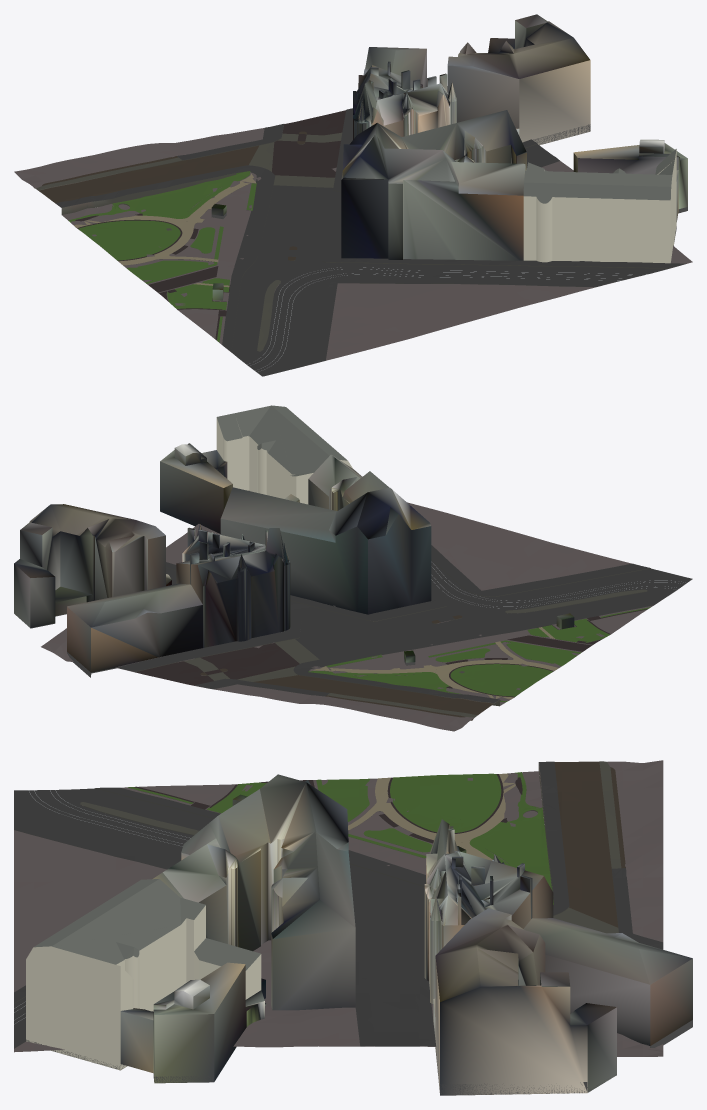
3 renders of one model, top to bottom at view 1: azimuth 30°, elevation 25°; view 2: azimuth 150°, elevation 25°; view 3: azimuth 270°, elevation 25°, orthographic. The views are drawn at different scales.
Parts seen in each view (by area): view 1: c_p04_p01; view 2: c_p04_p01; view 3: c_p04_p01.
Part boxes in pixels (x1,y1,x2,y2): c_p04_p01: (14, 14, 692, 376); c_p04_p01: (14, 405, 692, 731); c_p04_p01: (14, 760, 692, 1095).
Size of the model in its own units: 146 by 34.25 by 134.
